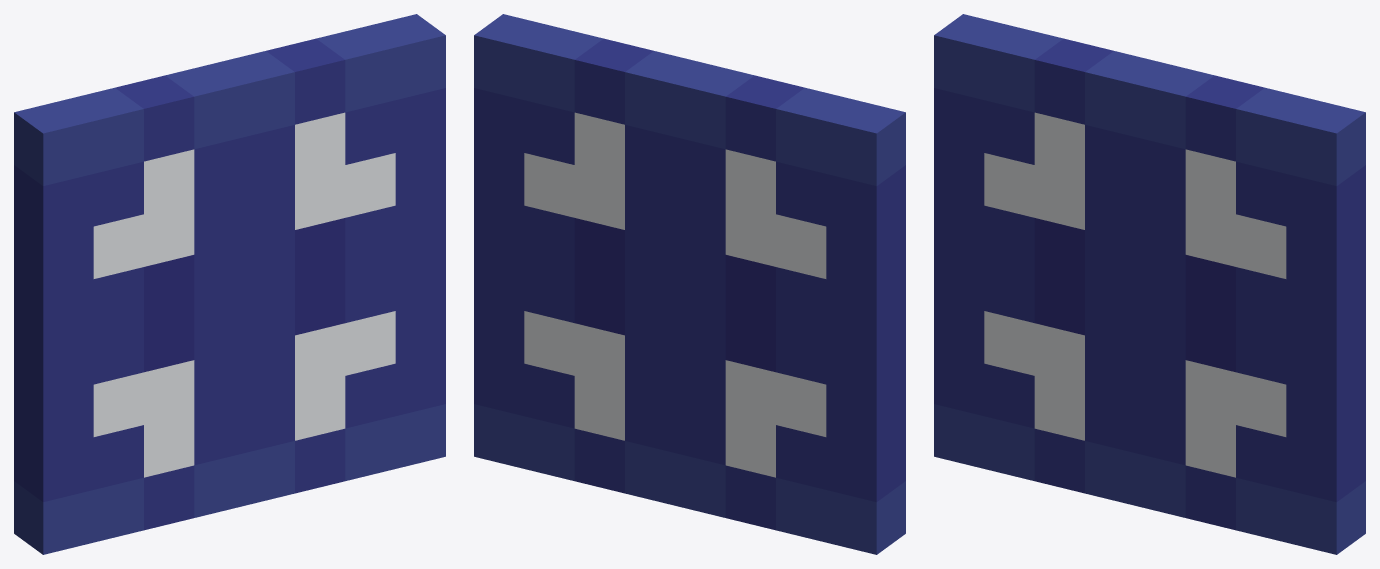
The model's file is Blue Seeking Paintball Explosive Item.glb.
3 renders of one model, left to right at view 1: azimuth 30°, elevation 25°; view 2: azimuth 150°, elevation 25°; view 3: azimuth 330°, elevation 25°, orthographic.
Visible parts, largest first — view 1: generated; view 2: generated; view 3: generated.
Part boxes in pixels (x1,y1,x2,y2): generated: (14, 14, 445, 554); generated: (474, 14, 905, 554); generated: (934, 14, 1365, 554).
Bounding box in the file's own units: 8 × 8 × 1.
1 material, 1 textured.
